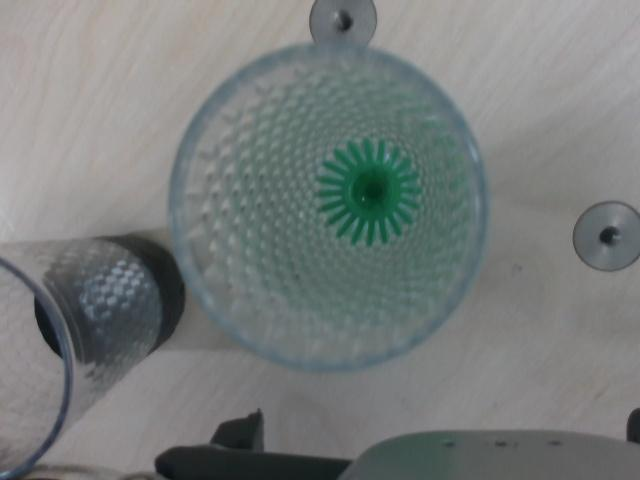black_cup: (34, 238, 185, 367)
green_cup: (303, 134, 438, 262)
